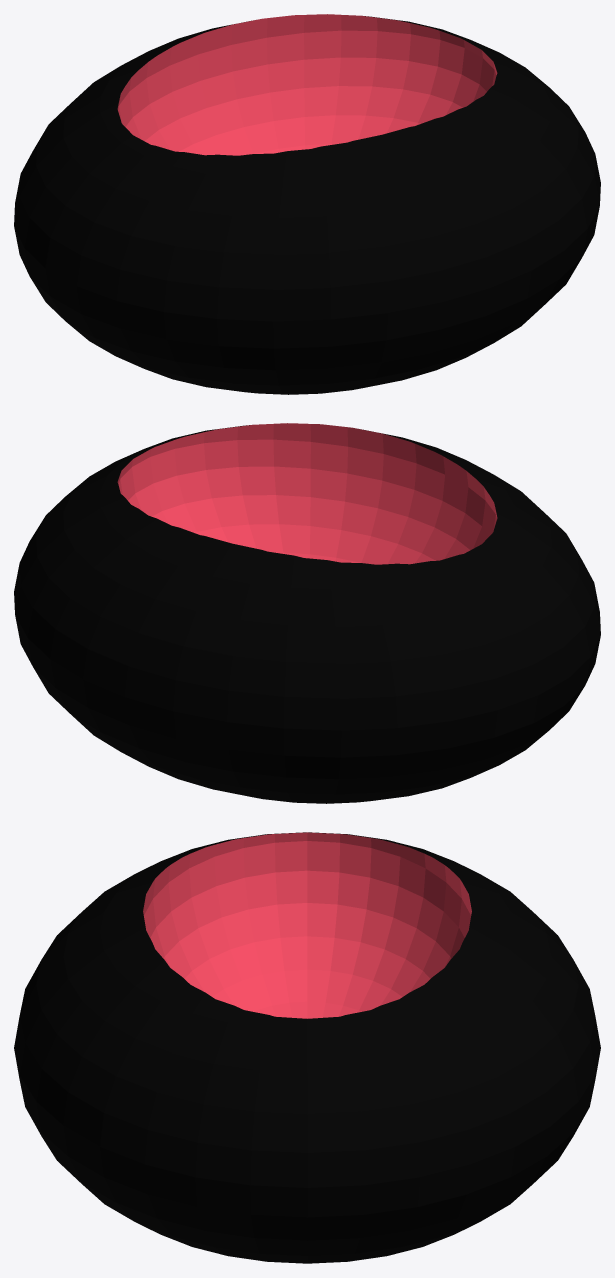
Rendered from mouth.obj.
3 views of the same model, one above another, from view 1: azimuth 30°, elevation 25°; view 2: azimuth 150°, elevation 25°; view 3: azimuth 270°, elevation 25° (orthographic). The views are drawn at different scales.
Visible parts, largest first — view 1: 球; view 2: 球; view 3: 球.
Boxes of the visible parts, x1,y1,x2,y2 form: 球: (14, 14, 600, 394); 球: (14, 423, 600, 803); 球: (14, 832, 600, 1263).
Bounding box in the file's own units: 15.79 × 7.93 × 13.99.
Materials: 1 (1 with a texture image).
